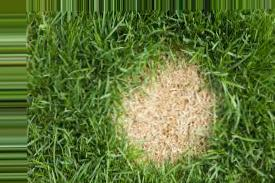patch: (130, 74, 199, 151)
